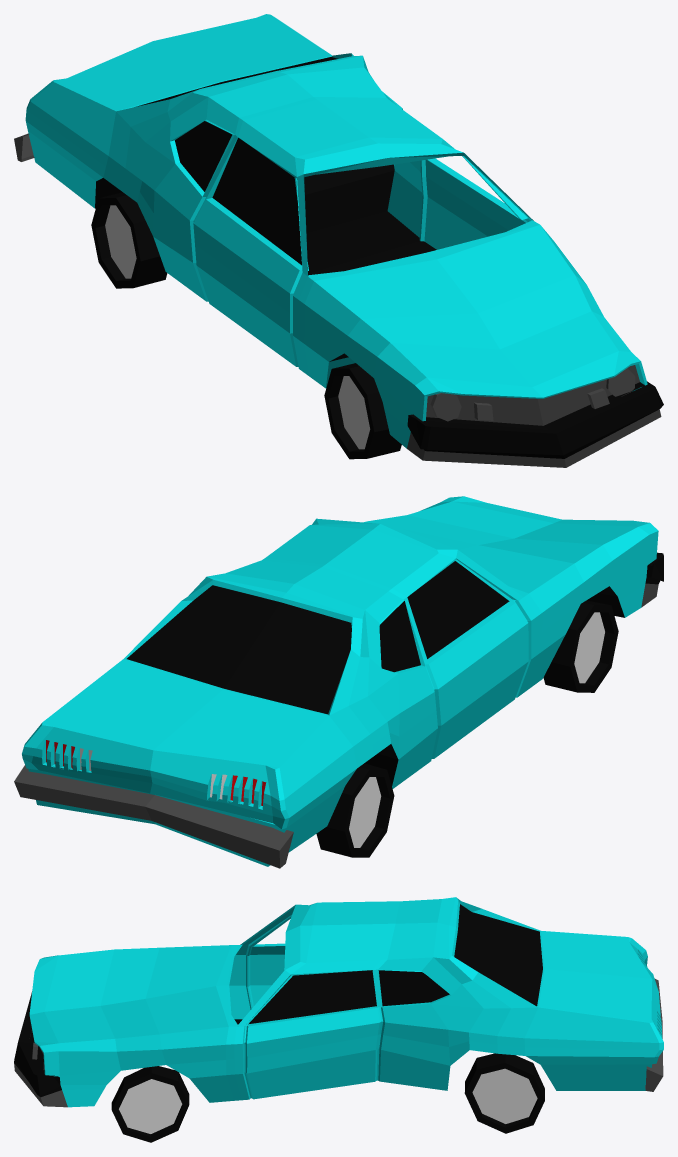
Rendered from car_zaglooshka.fbx.
3 views of the same model, one above another, from view 1: azimuth 30°, elevation 25°; view 2: azimuth 150°, elevation 25°; view 3: azimuth 270°, elevation 25° (orthographic). The views are drawn at different scales.
Parts seen in each view (by area): view 1: Cube; view 2: Cube; view 3: Cube.
Boxes of the visible parts, x1,y1,x2,y2 form: Cube: [14, 14, 663, 467]; Cube: [14, 496, 663, 868]; Cube: [14, 897, 663, 1142].
Size of the model in its own units: 125 by 97.33 by 336.
